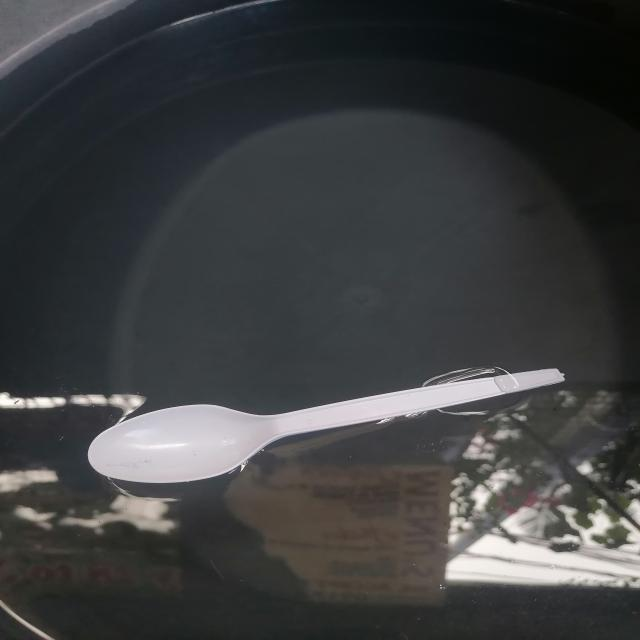Plastic Spoon: (88, 368, 564, 483)
